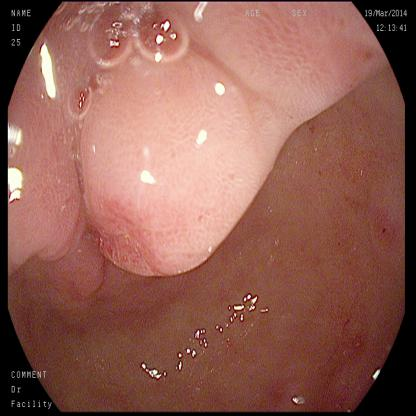Labels: (9, 359, 64, 411), (7, 4, 58, 59)
Polyps: (76, 85, 274, 285)
